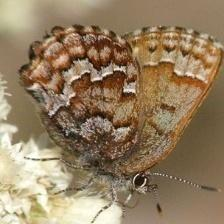butterfly: (19, 26, 223, 206)
